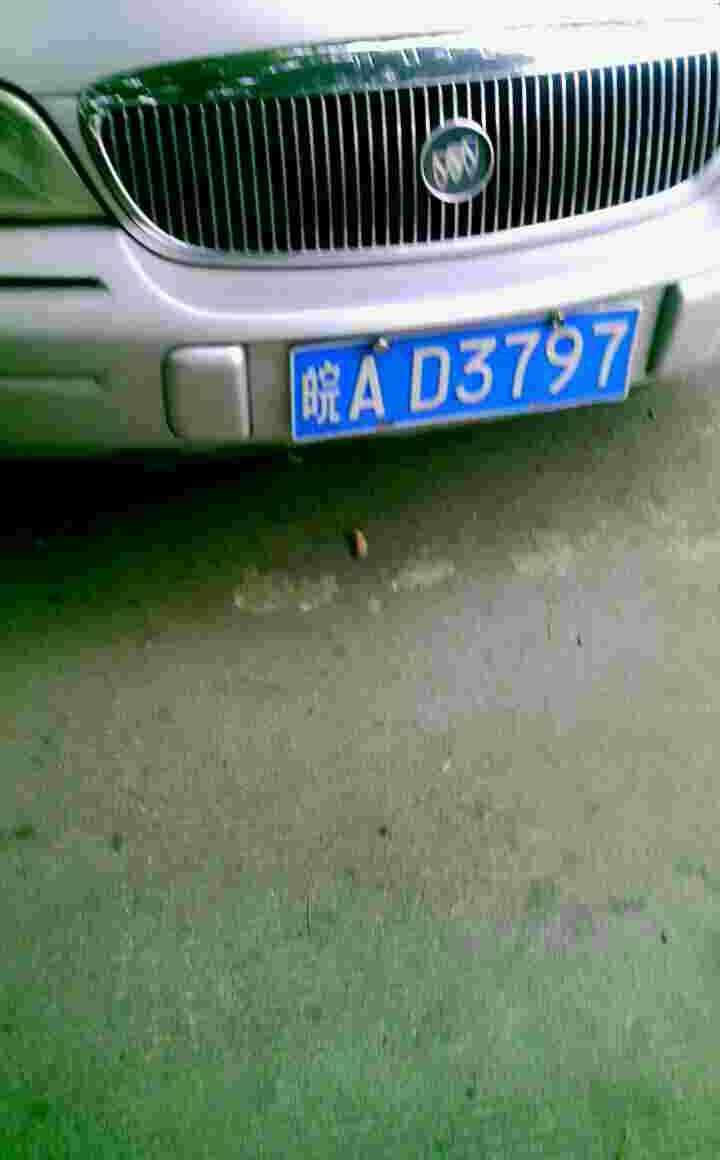license_plate: (290, 319, 637, 437)
